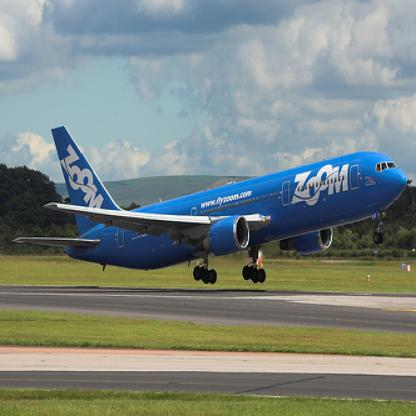aeroplane: (10, 122, 408, 285)
